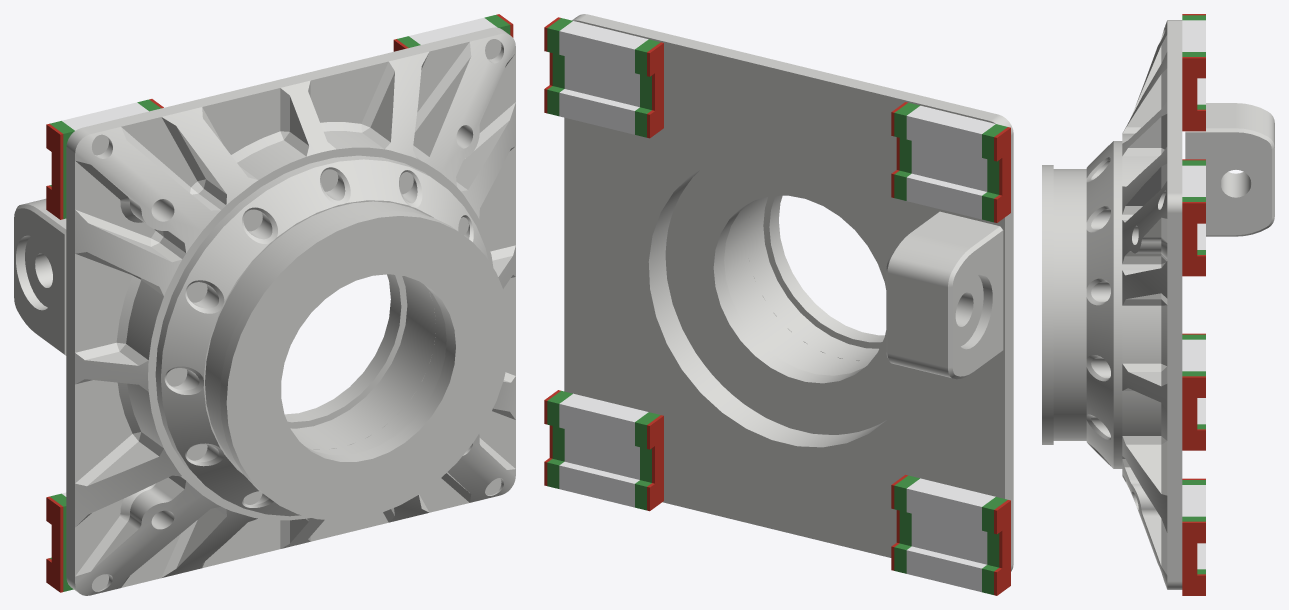
3 renders of one model, left to right at view 1: azimuth 30°, elevation 25°; view 2: azimuth 150°, elevation 25°; view 3: azimuth 270°, elevation 25°, orthographic. The views are drawn at different scales.
Visible parts, largest first — view 1: Link_1; view 2: Link_1; view 3: Link_1.
Part boxes in pixels (<box>): Link_1: <box>14,14,515,595</box>; Link_1: <box>544,14,1013,595</box>; Link_1: <box>1042,14,1274,595</box>.
Size of the model in its own units: 0.15 by 0.146 by 0.0779.
